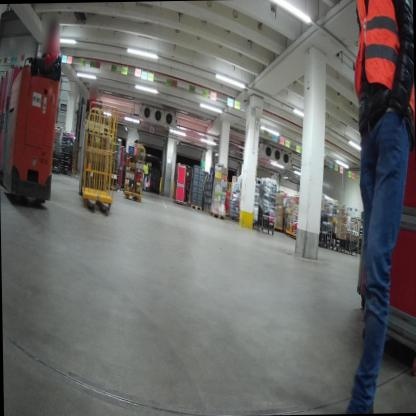pallet: (209, 209, 226, 220), (187, 201, 201, 210), (226, 212, 233, 220), (233, 215, 240, 221), (202, 206, 207, 213), (206, 210, 210, 214)
pallet_truck: (0, 54, 67, 205), (75, 105, 128, 224), (139, 163, 154, 189)
